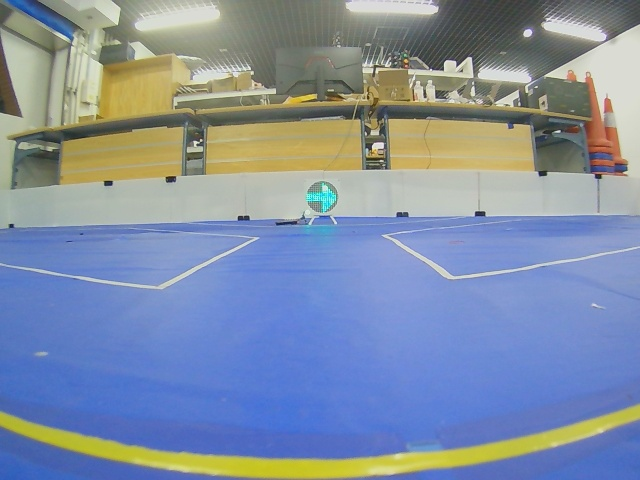right_green: (306, 181, 338, 213)
